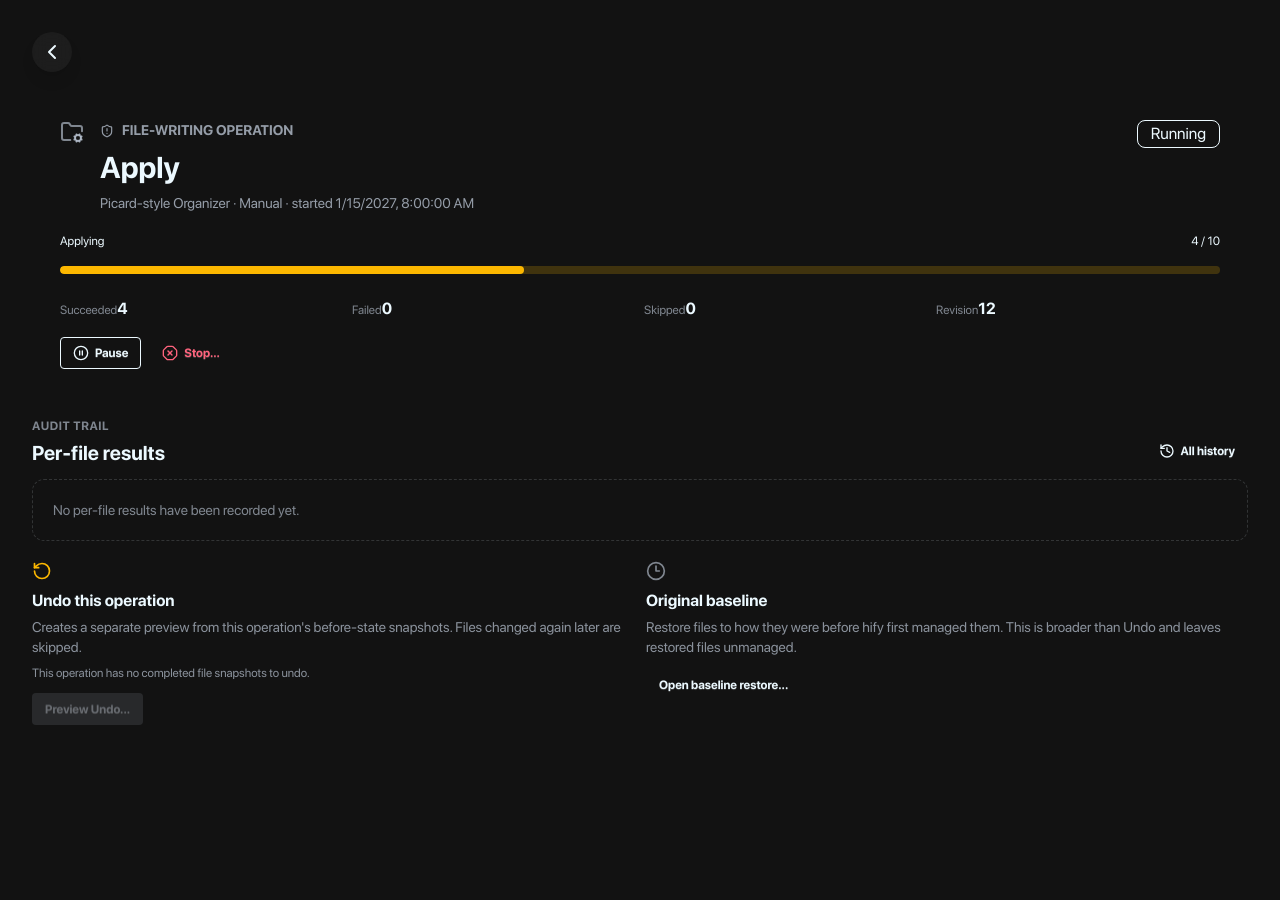
Test: LibraryManagementOperationPage › uses the current row revision for pause and states that Stop is not rollback
Click the button "Pause": (101, 353) [60,337,141,369]
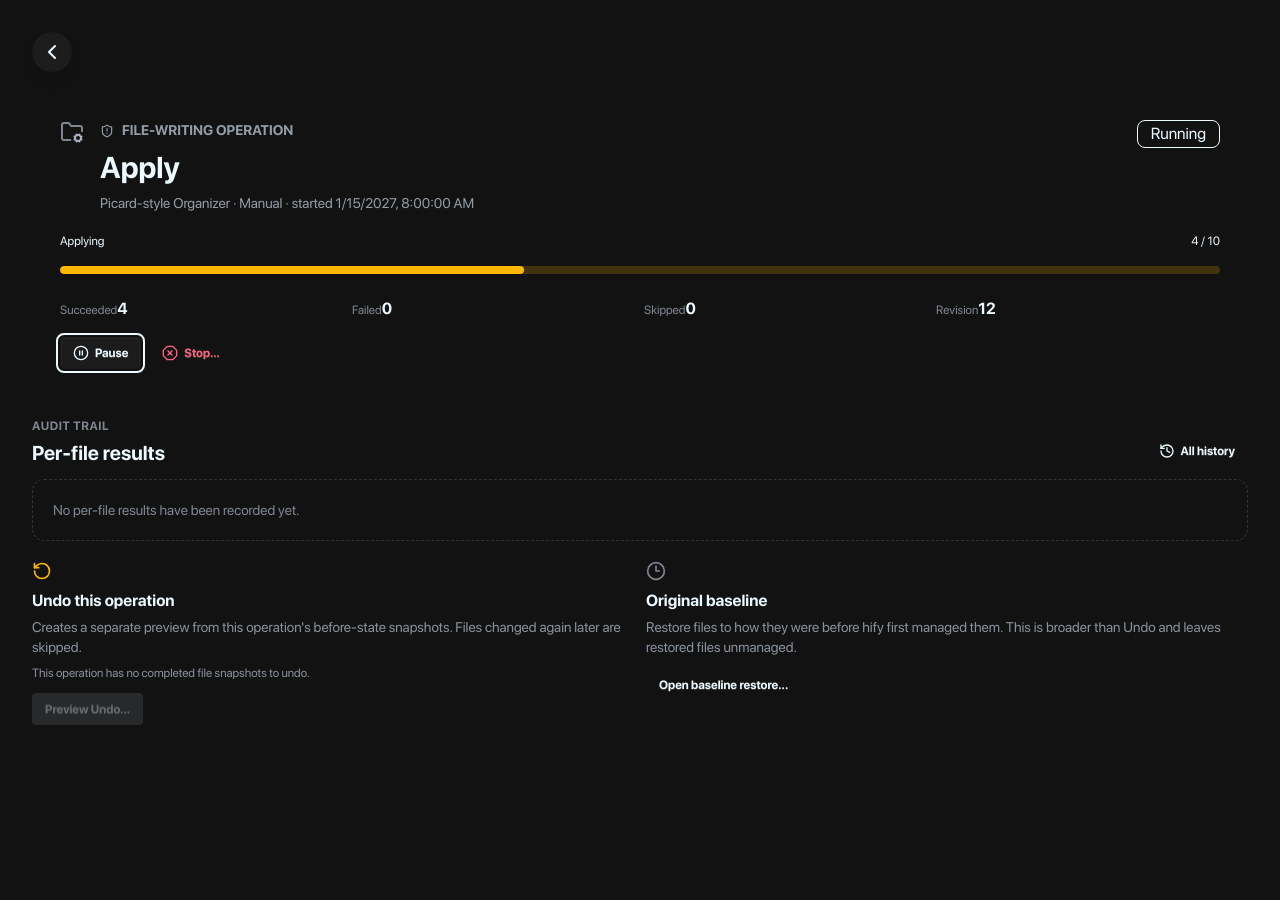
Click the button "Stop...": (191, 353) [149,337,233,369]
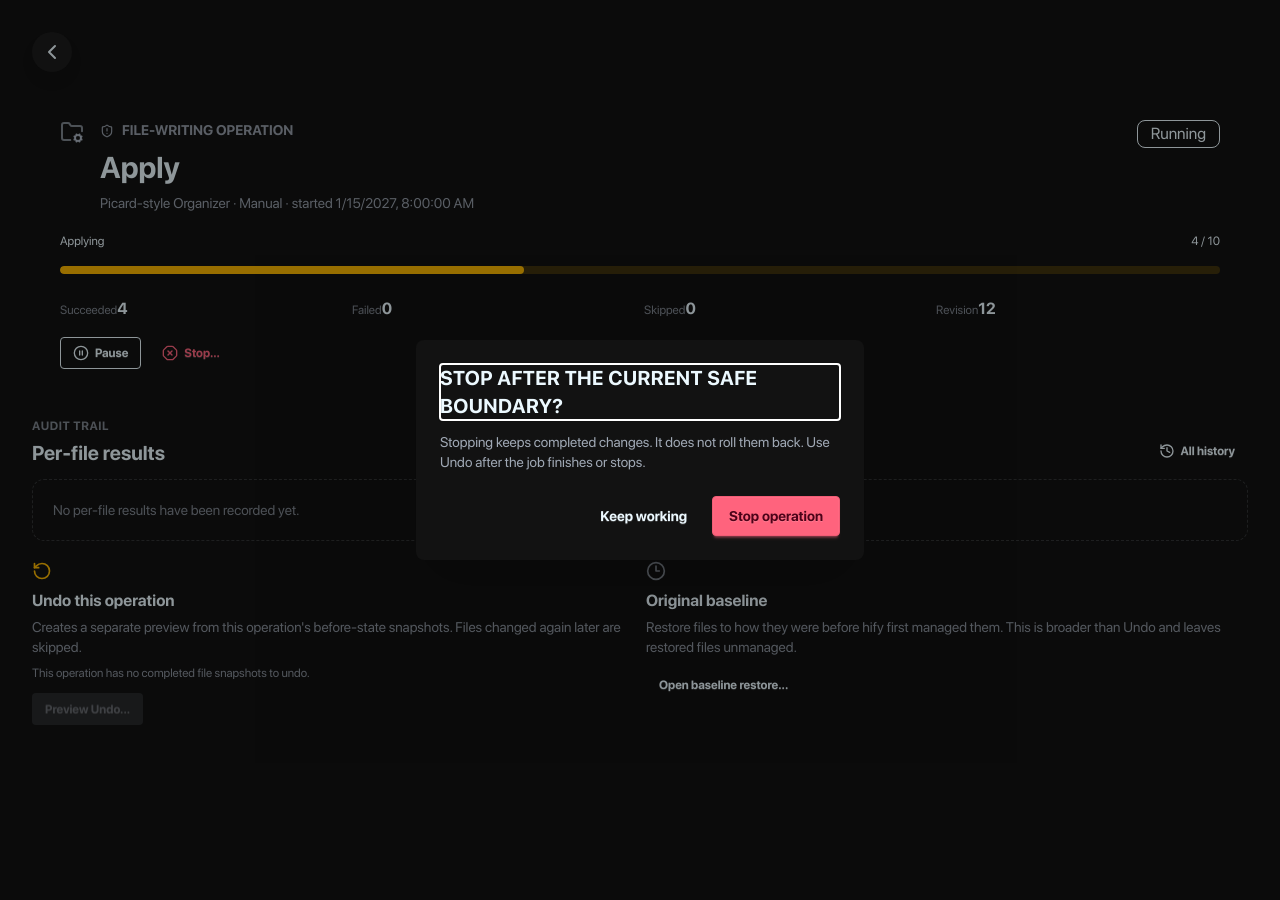
Now the text "does not roll them back" is shown, box [440,434,830,470]
